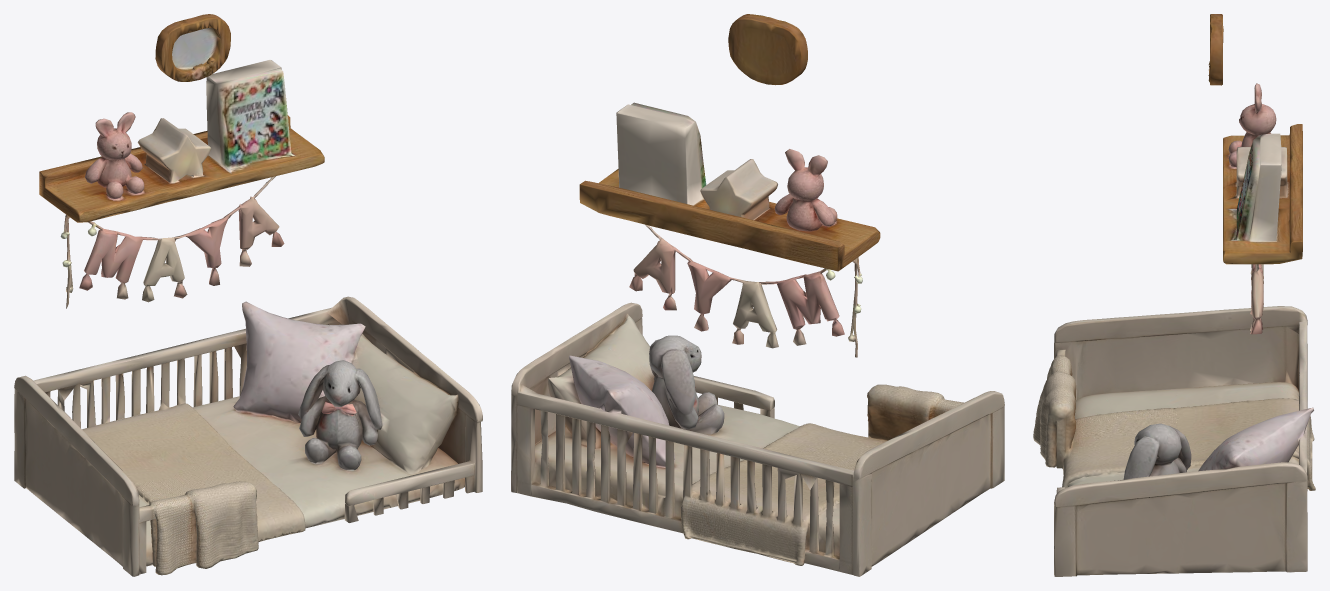
Rendered from scene_nursery_corner.glb.
3 renders of one model, left to right at view 1: azimuth 30°, elevation 25°; view 2: azimuth 150°, elevation 25°; view 3: azimuth 270°, elevation 25°, orthographic. The views are drawn at different scales.
Visible parts, largest first — view 1: tripo_node_292ae9d3-3885-4977-b128-672e123557c5; view 2: tripo_node_292ae9d3-3885-4977-b128-672e123557c5; view 3: tripo_node_292ae9d3-3885-4977-b128-672e123557c5.
Boxes of the visible parts, x1=… form: tripo_node_292ae9d3-3885-4977-b128-672e123557c5: x1=14, y1=14, x2=482, y2=576; tripo_node_292ae9d3-3885-4977-b128-672e123557c5: x1=511, y1=14, x2=1004, y2=576; tripo_node_292ae9d3-3885-4977-b128-672e123557c5: x1=1033, y1=14, x2=1315, y2=576.
Bounding box in the file's own units: 0.7772 × 0.9797 × 0.5512.
Materials: 1 (1 with a texture image).
